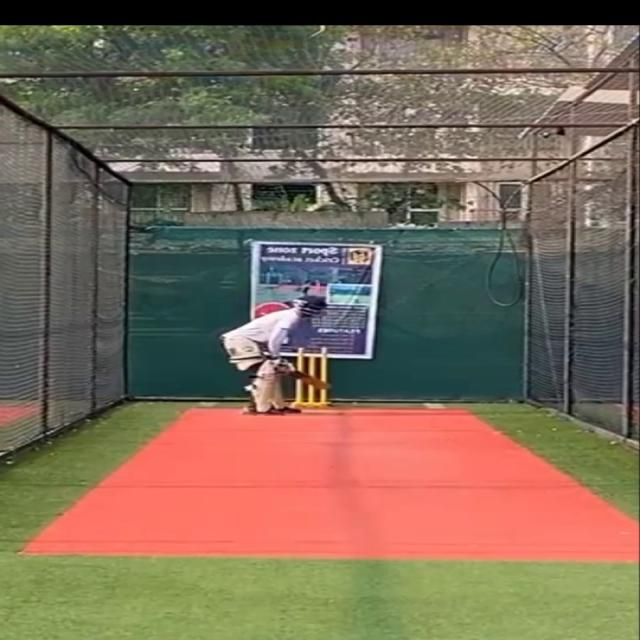stump: (290, 345, 334, 410)
